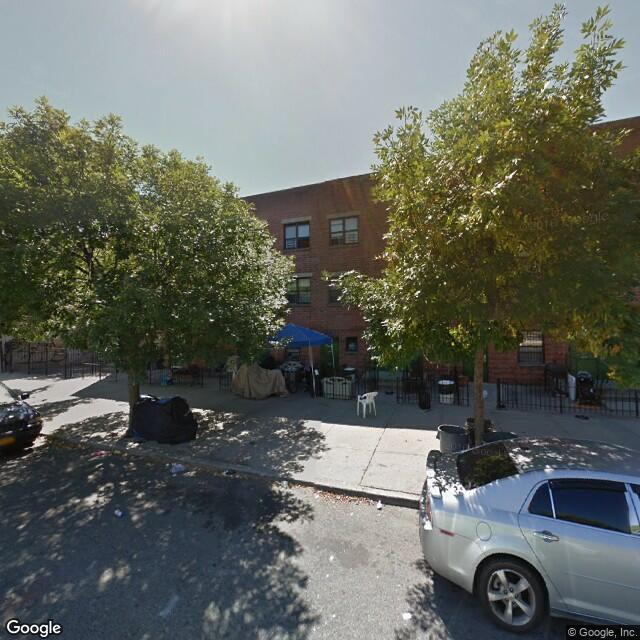litter: (167, 457, 192, 478), (110, 507, 128, 519)
